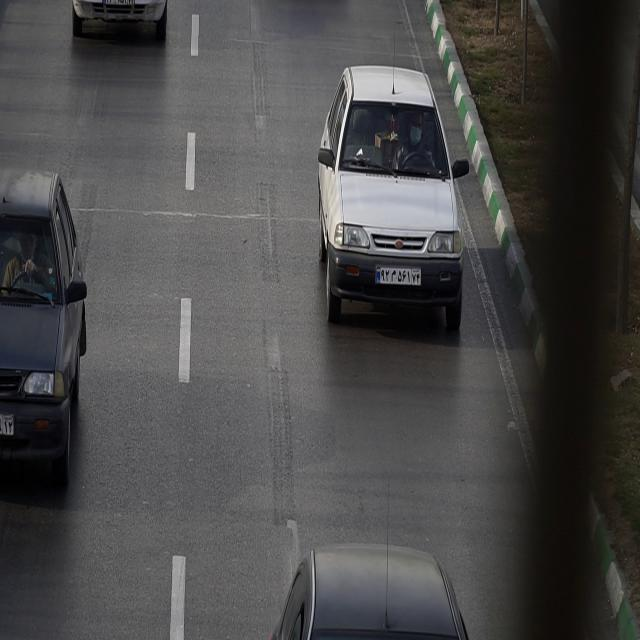car: (318, 65, 470, 332), (0, 164, 86, 496)
